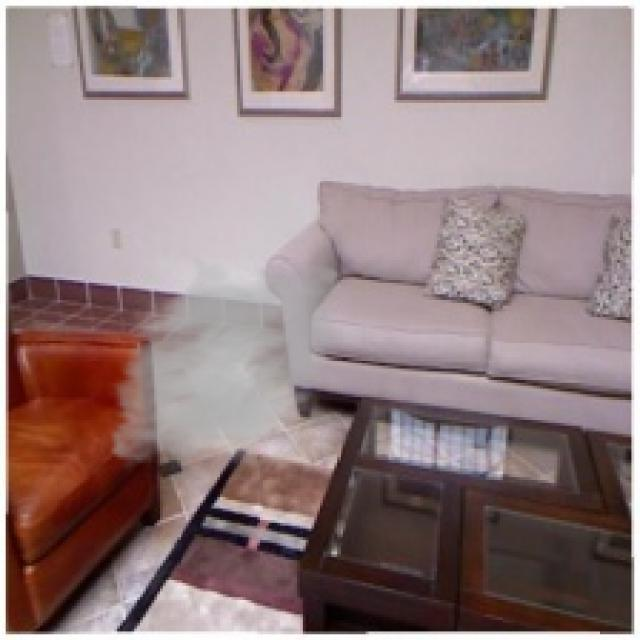Smoke: (100, 240, 352, 480)
